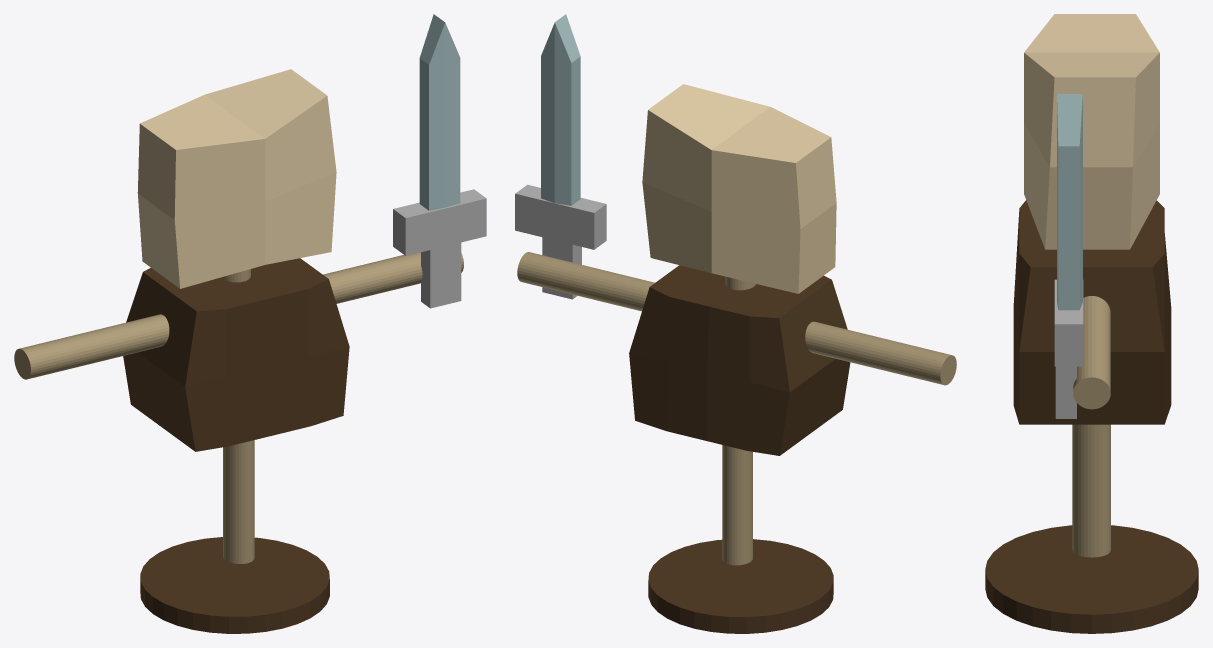
The model's file is DummyModelComplete.fbx.
3 renders of one model, left to right at view 1: azimuth 30°, elevation 25°; view 2: azimuth 150°, elevation 25°; view 3: azimuth 270°, elevation 25°, orthographic. The views are drawn at different scales.
Visible parts, largest first — view 1: Base; view 2: Base; view 3: Base.
Boxes of the visible parts, bbox=[...] form: Base: bbox=[14, 14, 486, 633]; Base: bbox=[515, 14, 956, 633]; Base: bbox=[985, 14, 1198, 633].
Size of the model in its own units: 272 by 311 by 100.
